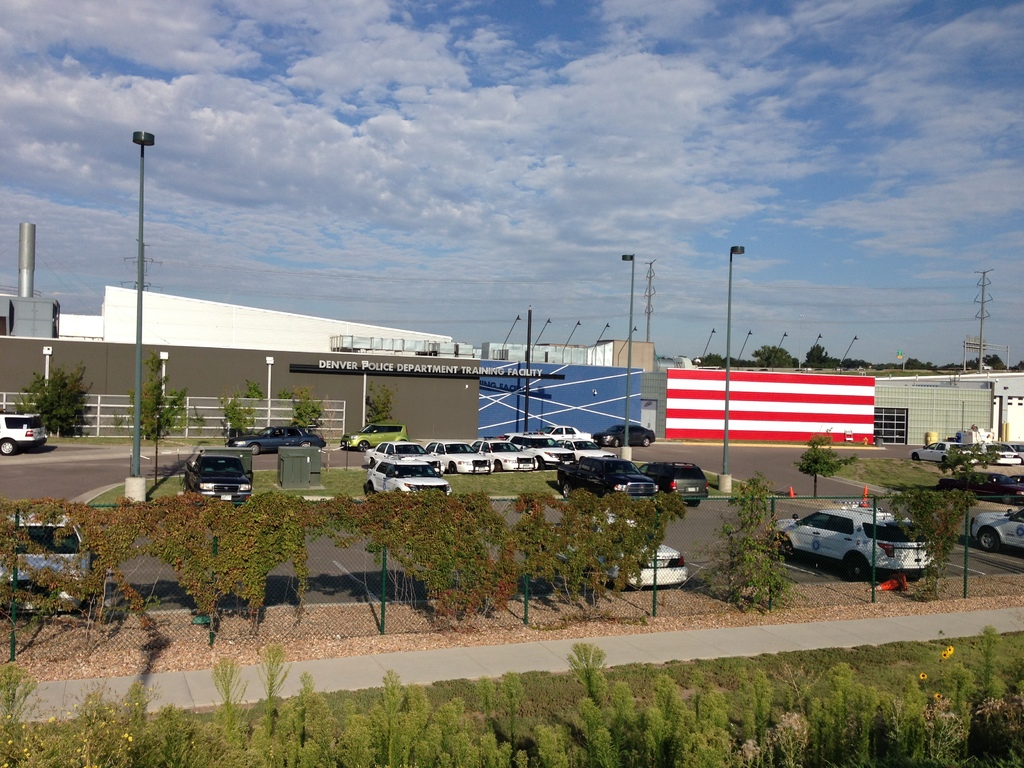cars: (363, 423, 656, 497), (773, 512, 933, 577), (365, 434, 610, 473), (0, 518, 87, 612), (607, 517, 686, 583), (558, 457, 657, 493), (364, 456, 448, 494), (185, 450, 252, 496), (937, 471, 1022, 504), (971, 498, 1022, 552), (232, 425, 328, 453), (638, 464, 706, 503), (0, 417, 48, 454), (342, 425, 404, 453), (604, 420, 652, 448), (967, 443, 1017, 465), (909, 440, 952, 462), (543, 424, 595, 442), (986, 441, 1022, 461), (1003, 474, 1022, 487)
